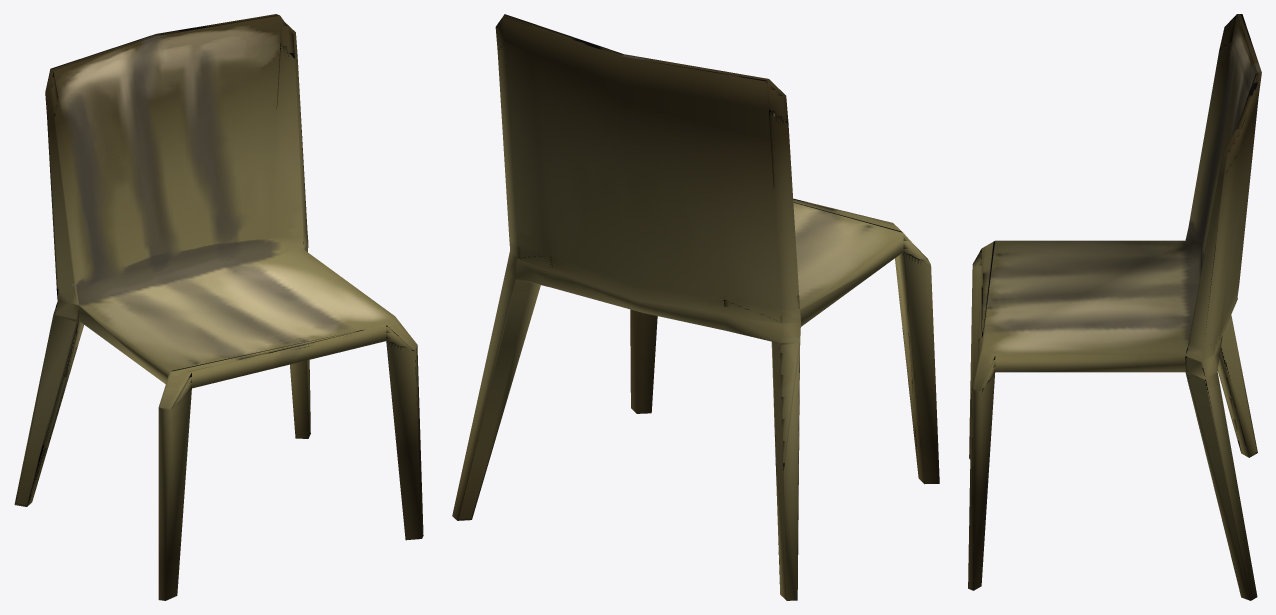
Rendered from Chair.fbx.
3 renders of one model, left to right at view 1: azimuth 30°, elevation 25°; view 2: azimuth 150°, elevation 25°; view 3: azimuth 270°, elevation 25°, orthographic. The views are drawn at different scales.
Visible parts, largest first — view 1: M_Chair; view 2: M_Chair; view 3: M_Chair.
Part boxes in pixels (box(x1,y1,x2,y2)): M_Chair: box(14, 14, 423, 600); M_Chair: box(452, 14, 939, 600); M_Chair: box(968, 14, 1261, 600).
Size of the model in its own units: 0.633 by 0.8853 by 0.5213.
